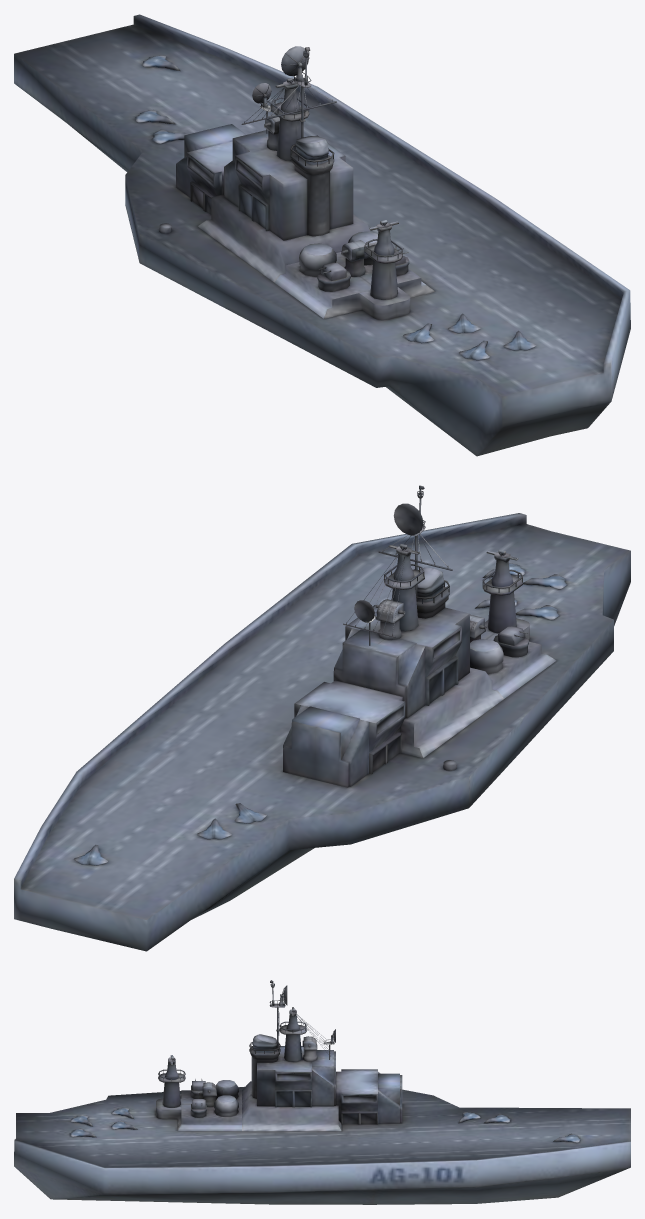
File: Carrier.glb
The picture shows the model from 3 angles, top to bottom: view 1: azimuth 30°, elevation 25°; view 2: azimuth 150°, elevation 25°; view 3: azimuth 270°, elevation 25°; orthographic projection. The views are drawn at different scales.
Parts seen in each view (by area): view 1: Cube.040; view 2: Cube.040; view 3: Cube.040.
Boxes of the visible parts, bbox=[...] form: Cube.040: bbox=[14, 14, 630, 456]; Cube.040: bbox=[14, 485, 630, 951]; Cube.040: bbox=[14, 980, 630, 1204].
Bounding box in the file's own units: 21.22 × 19.04 × 57.95.
Materials: 1 (1 with a texture image).
